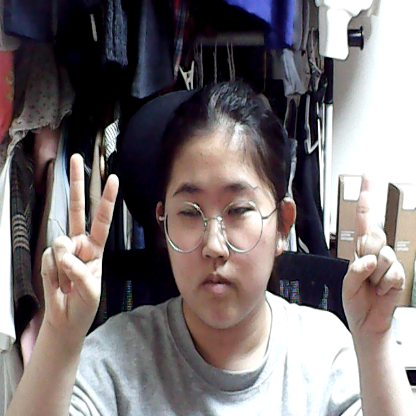Finger_1: (337, 165, 411, 354)
Finger_2: (28, 140, 133, 352)
